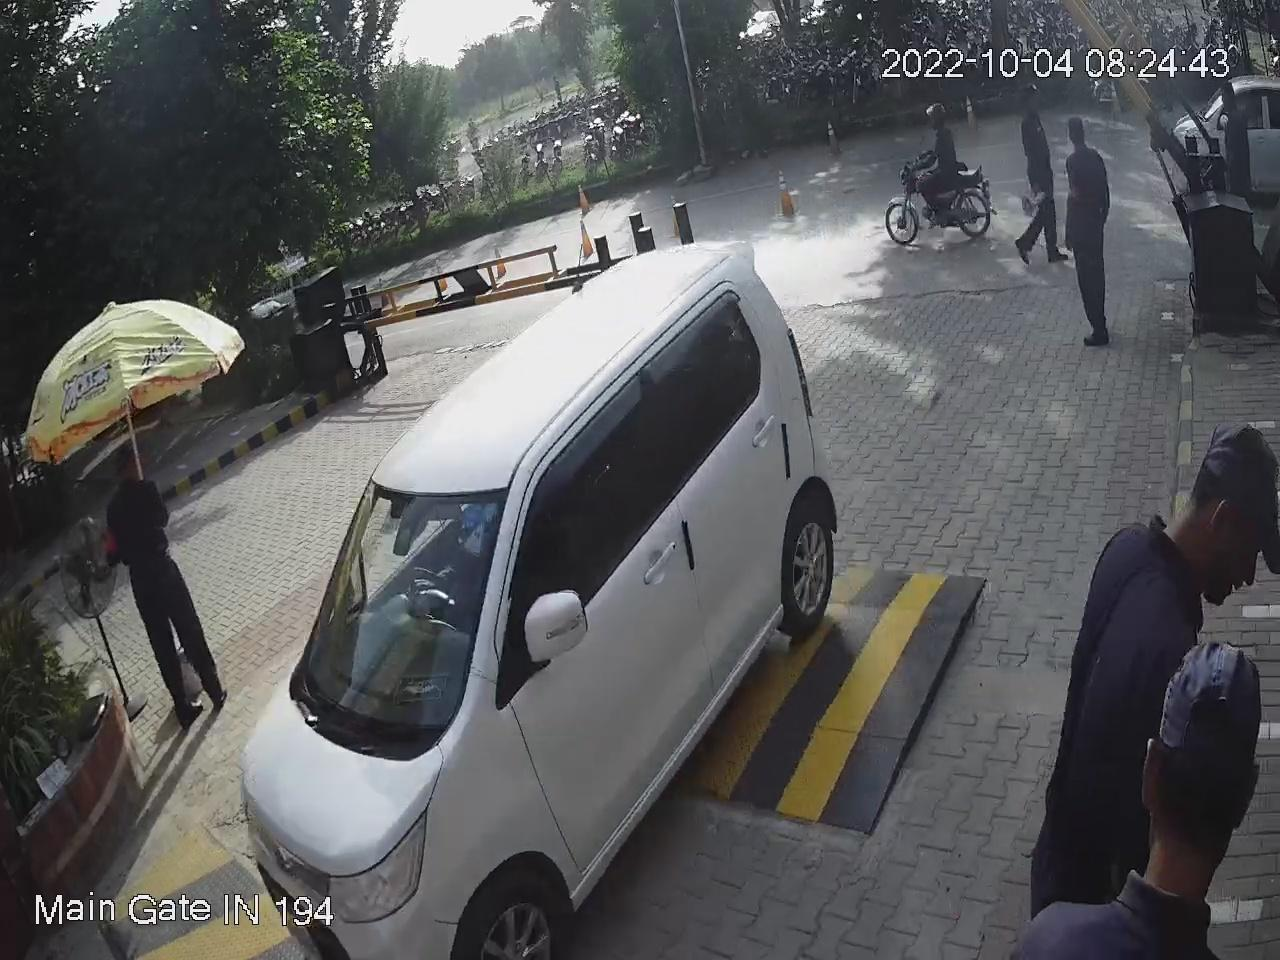windshield: (270, 482, 530, 760)
